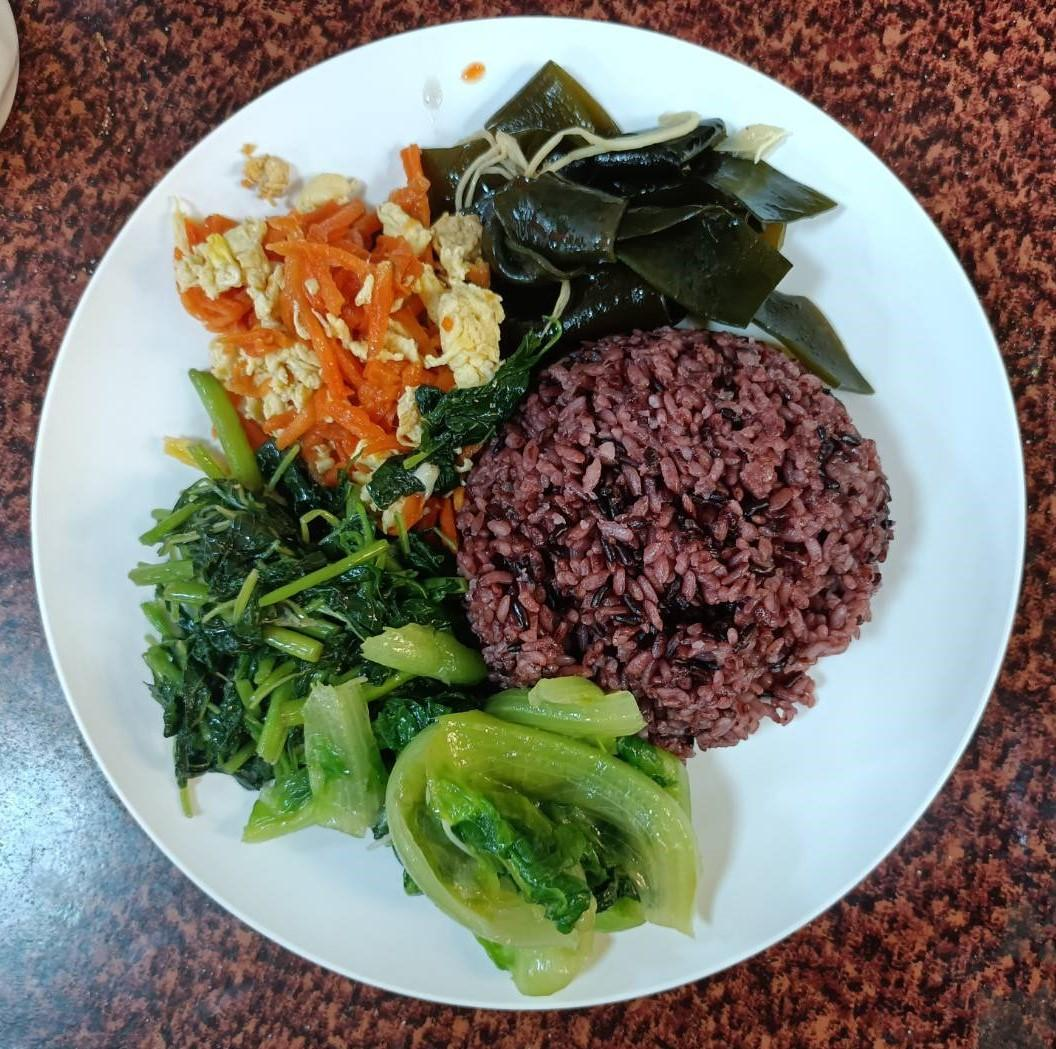big fried chicken leg: (25, 26, 1043, 1021)
braised fish: (455, 307, 904, 741)
braised fish fillet: (301, 629, 710, 956), (136, 443, 459, 777), (407, 74, 820, 328), (183, 170, 493, 466)
